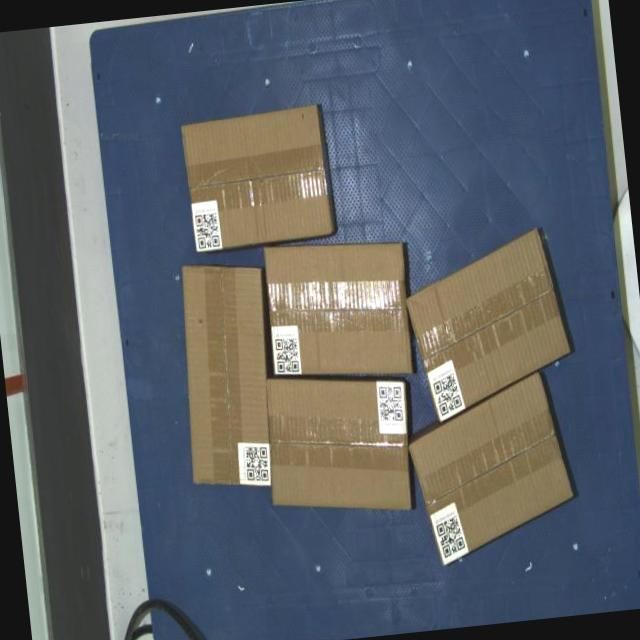box: (402, 369, 578, 569), (400, 225, 576, 425), (170, 258, 284, 494), (260, 364, 418, 523), (260, 232, 415, 387), (180, 104, 334, 252)
